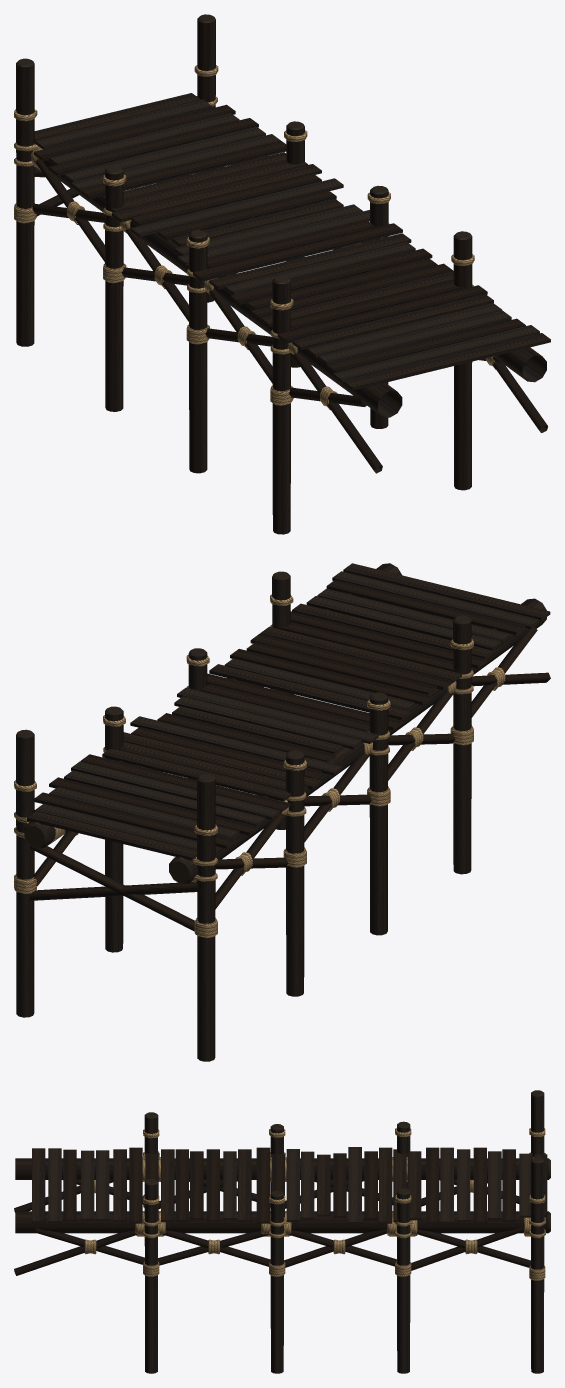
The model's file is bridge.fbx.
The picture shows the model from 3 angles, top to bottom: view 1: azimuth 30°, elevation 25°; view 2: azimuth 150°, elevation 25°; view 3: azimuth 270°, elevation 25°; orthographic projection. The views are drawn at different scales.
Parts seen in each view (by area): view 1: bridge1, ropeMesh; view 2: bridge1, ropeMesh; view 3: bridge1, ropeMesh.
Boxes of the visible parts, left/top/right/bottom form: bridge1: left=16, top=14, right=550, bottom=534; ropeMesh: left=14, top=65, right=495, bottom=410; bridge1: left=16, top=563, right=550, bottom=1061; ropeMesh: left=14, top=594, right=505, bottom=937; bridge1: left=14, top=1090, right=550, bottom=1373; ropeMesh: left=84, top=1128, right=545, bottom=1280.
Size of the model in its own units: 4.51 by 5.93 by 13.63.
